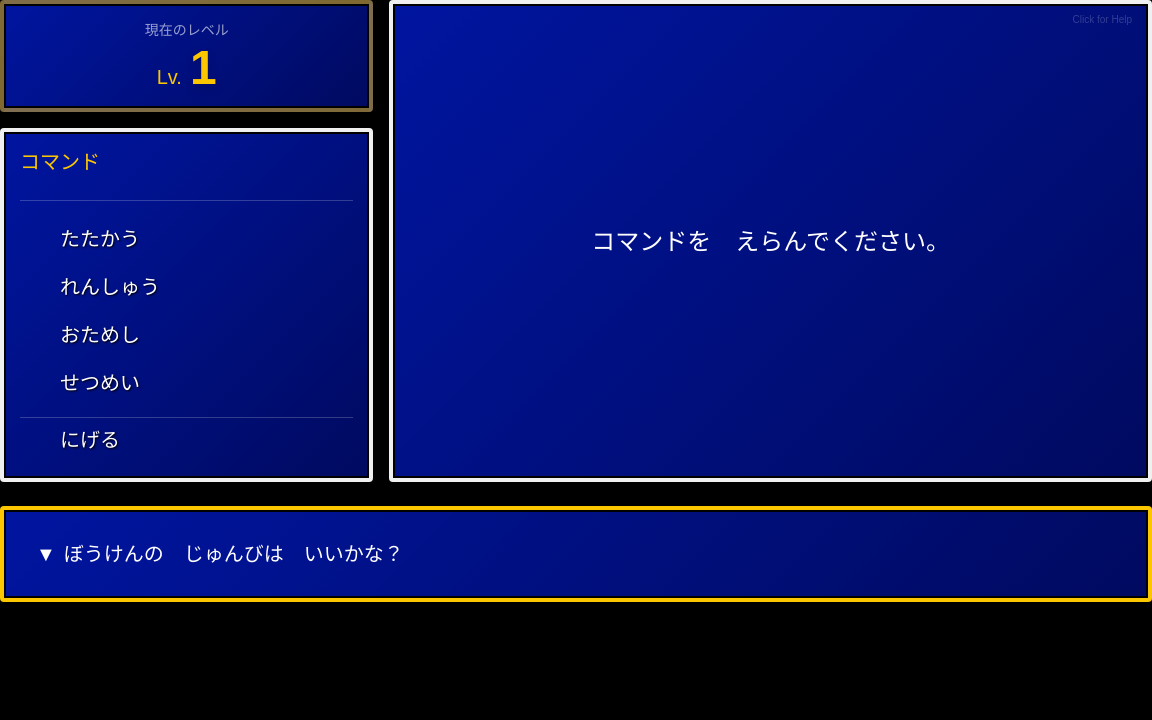
MainMenu › switches to "れんしゅう" category and shows its items when clicked
Click the button "れんしゅう" at (110, 287), box [20,265,353,309]
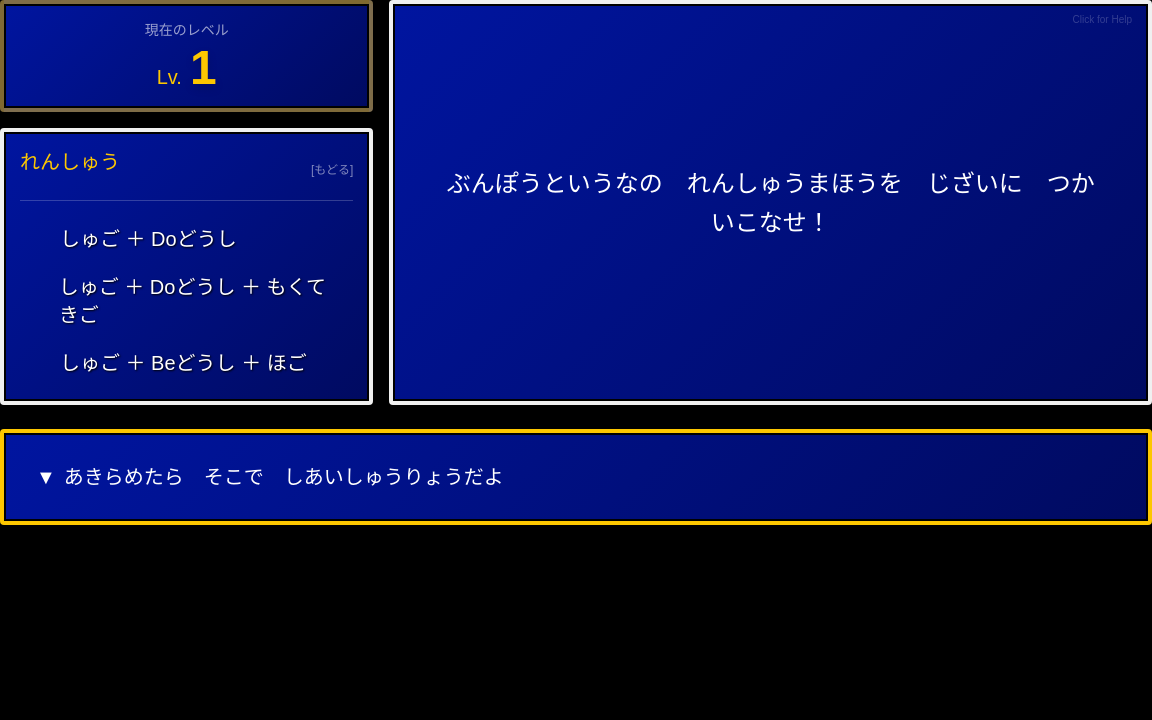
Expected: the heading reads "れんしゅう", [20,151,120,173]
Expected: the button "しゅご ＋ Doどうし" is shown, [20,217,353,261]
Expected: the button "しゅご ＋ Doどうし ＋ もくてきご" is shown, [20,265,353,337]
